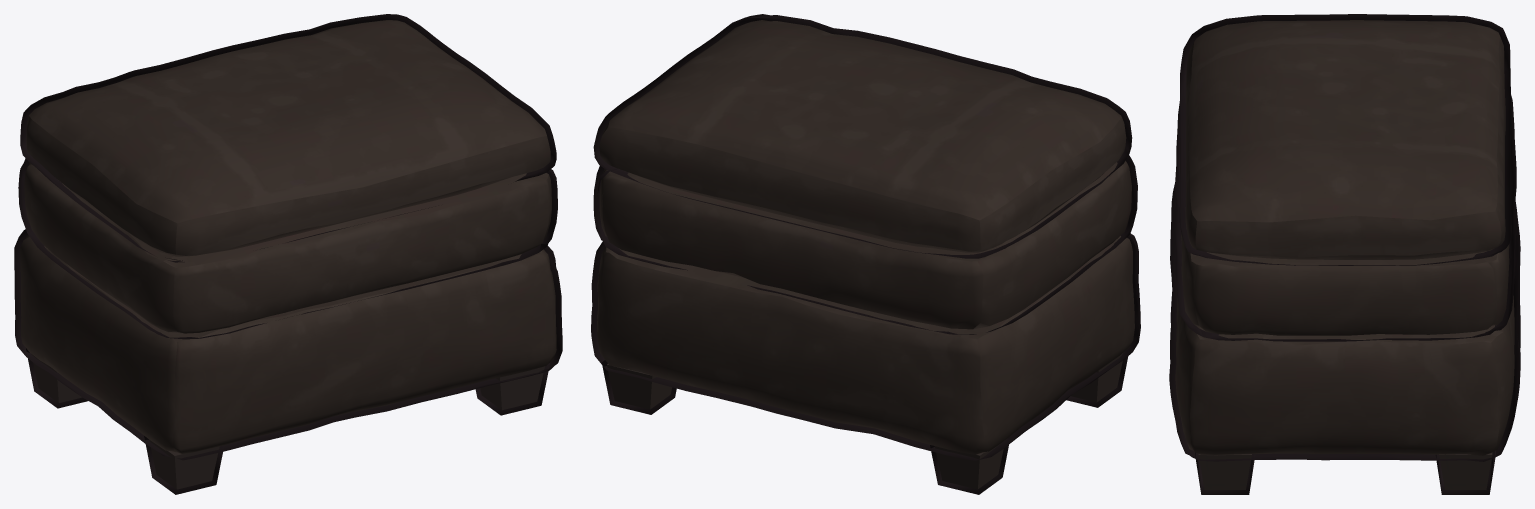
Rendered from SM_Int_Ottoman.fbx.
3 renders of one model, left to right at view 1: azimuth 30°, elevation 25°; view 2: azimuth 150°, elevation 25°; view 3: azimuth 270°, elevation 25°, orthographic.
Visible parts, largest first — view 1: SM_Int_Ottoman; view 2: SM_Int_Ottoman; view 3: SM_Int_Ottoman.
Boxes of the visible parts, box(x1,y1,x2,y2) form: SM_Int_Ottoman: box(14, 14, 562, 494); SM_Int_Ottoman: box(591, 14, 1140, 494); SM_Int_Ottoman: box(1169, 14, 1520, 494).
Size of what is drawn, in the model's own units: 0.6536 by 0.4632 by 0.4637.
